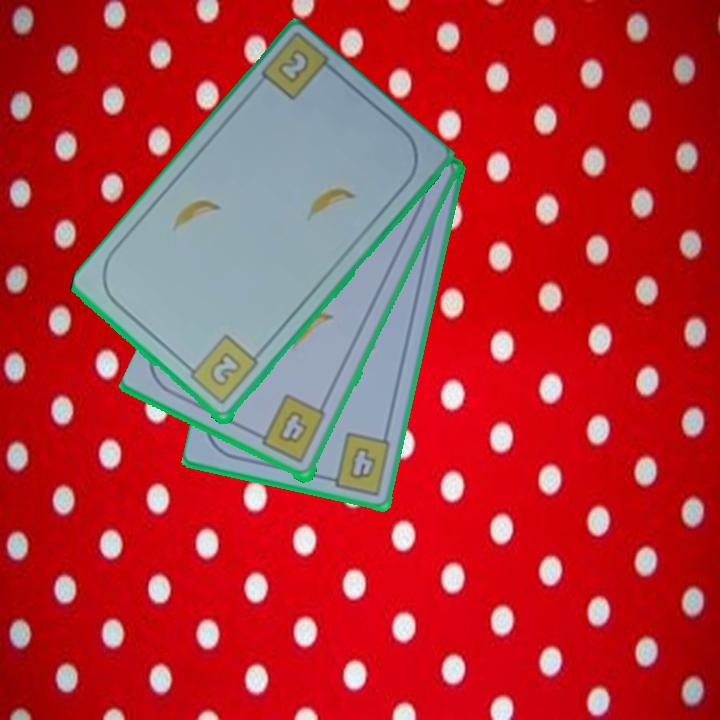2b: (181, 332, 261, 409), (273, 46, 313, 87)
4b: (251, 392, 329, 467), (321, 429, 394, 498)
